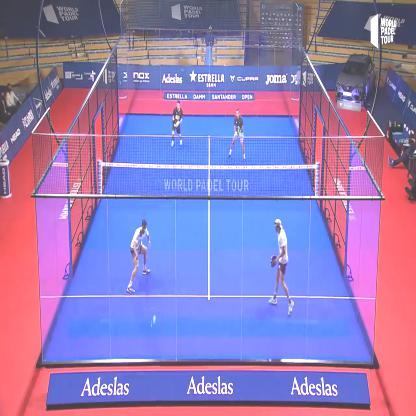ball: (151, 308, 159, 328)
